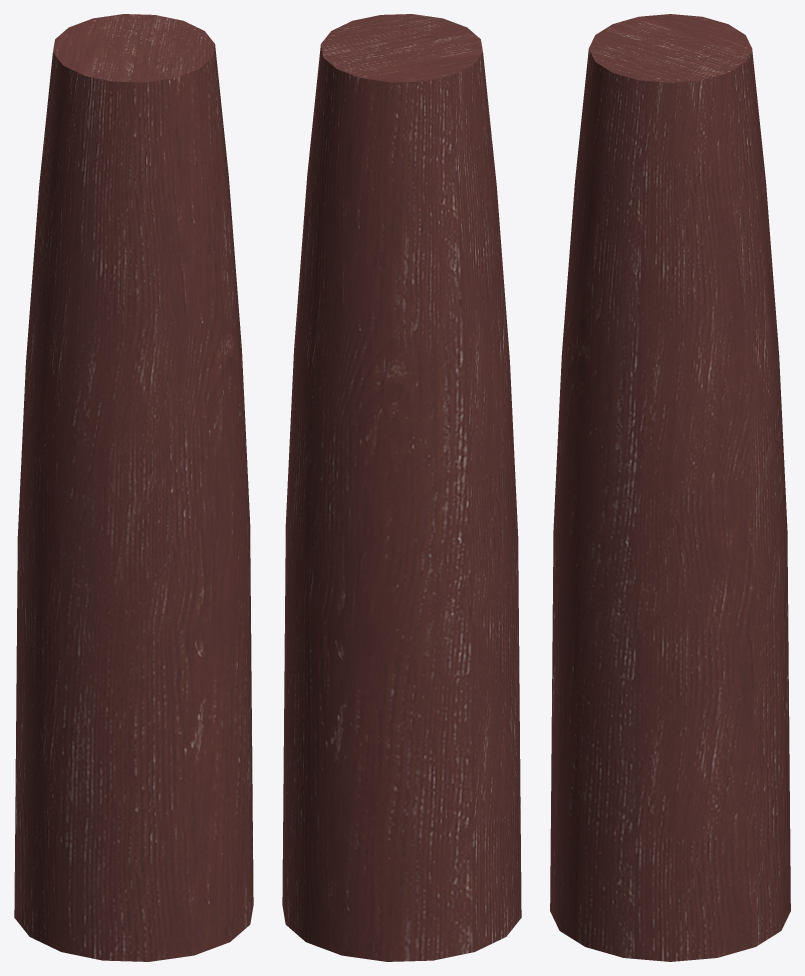
Rendered from SM_Ssang_Dae_Pillar_A.fbx.
3 renders of one model, left to right at view 1: azimuth 30°, elevation 25°; view 2: azimuth 150°, elevation 25°; view 3: azimuth 270°, elevation 25°, orthographic.
Parts seen in each view (by area): view 1: SM_Ssang_Dae_Pillar_A; view 2: SM_Ssang_Dae_Pillar_A; view 3: SM_Ssang_Dae_Pillar_A.
Boxes of the visible parts, x1=… form: SM_Ssang_Dae_Pillar_A: x1=14, y1=14, x2=253, y2=961; SM_Ssang_Dae_Pillar_A: x1=282, y1=14, x2=521, y2=961; SM_Ssang_Dae_Pillar_A: x1=550, y1=14, x2=790, y2=961.
Bounding box in the file's own units: 106 × 419 × 106.
